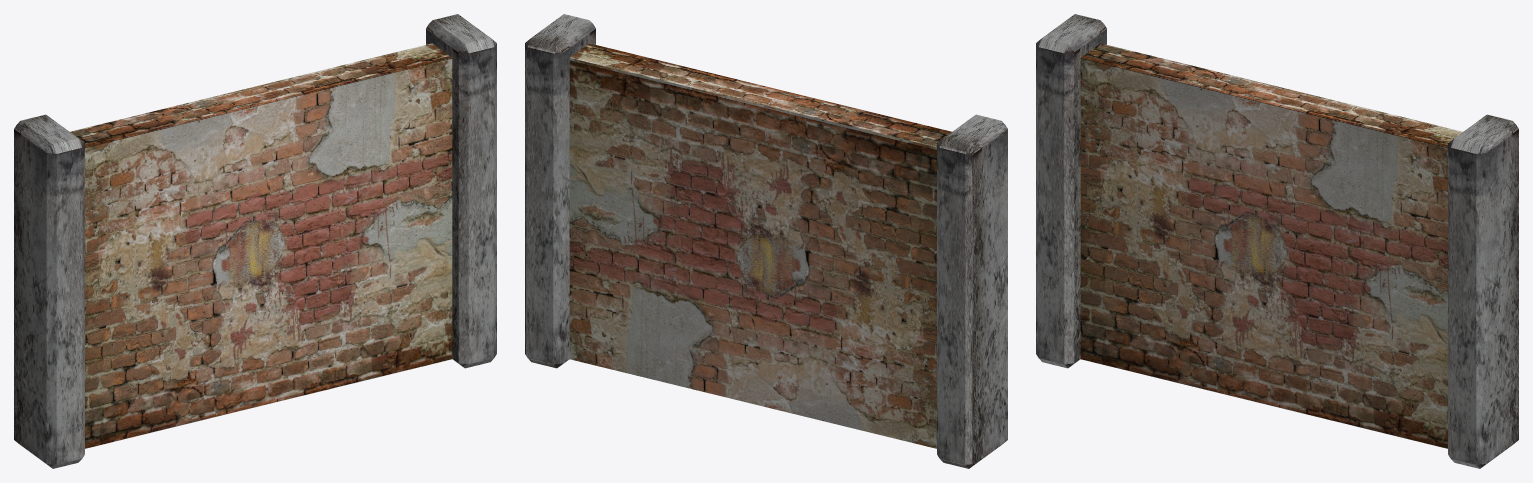
The model's file is Brick_wall.fbx.
3 views of the same model, side by side, from view 1: azimuth 30°, elevation 25°; view 2: azimuth 150°, elevation 25°; view 3: azimuth 330°, elevation 25° (orthographic).
Visible parts, largest first — view 1: Cube.001; view 2: Cube.001; view 3: Cube.001.
Boxes of the visible parts, <box> form: Cube.001: <box>14,14,496,468</box>; Cube.001: <box>525,14,1007,468</box>; Cube.001: <box>1036,14,1518,468</box>.
Size of the model in its own units: 488 by 336 by 75.04.
